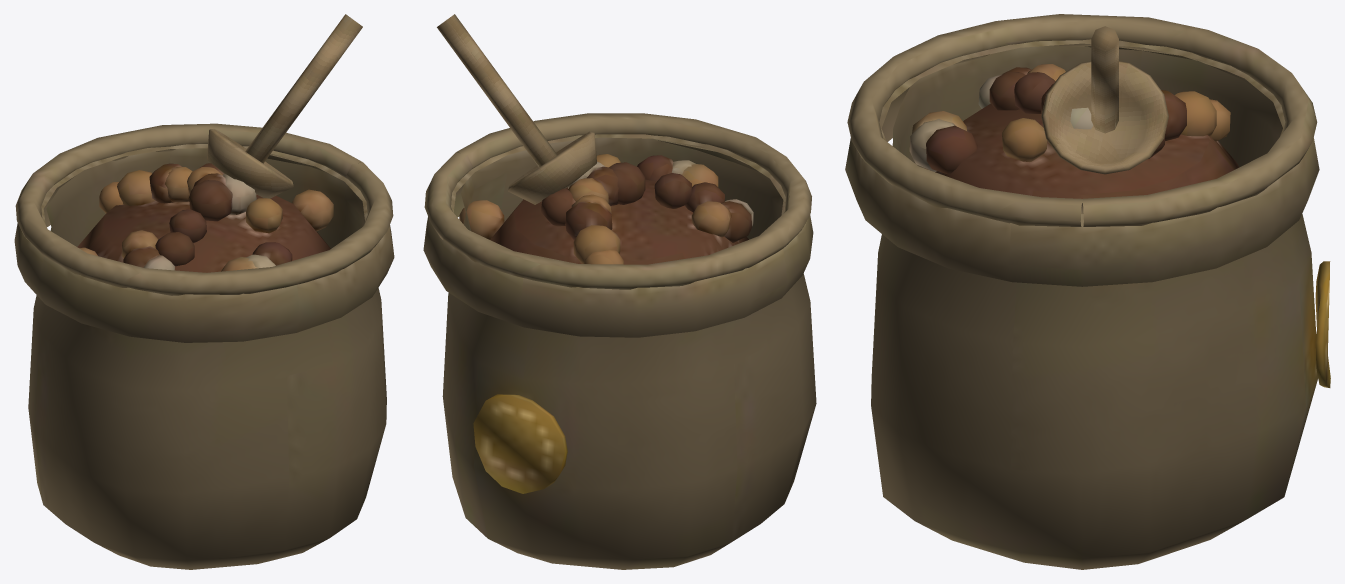
Rendered from pellet_sack_brown.glb.
3 renders of one model, left to right at view 1: azimuth 30°, elevation 25°; view 2: azimuth 150°, elevation 25°; view 3: azimuth 270°, elevation 25°, orthographic. The views are drawn at different scales.
Visible parts, largest first — view 1: prop_pellet_sack_brown_felt, prop_pellet_sack_brown_wood; view 2: prop_pellet_sack_brown_felt, prop_pellet_sack_brown_wood; view 3: prop_pellet_sack_brown_felt, prop_pellet_sack_brown_wood.
Part boxes in pixels (box(x1,y1,x2,y2)): prop_pellet_sack_brown_felt: box(14, 123, 394, 569); prop_pellet_sack_brown_wood: box(207, 14, 362, 198); prop_pellet_sack_brown_felt: box(423, 113, 816, 569); prop_pellet_sack_brown_wood: box(437, 14, 596, 204); prop_pellet_sack_brown_felt: box(845, 14, 1330, 569); prop_pellet_sack_brown_wood: box(1041, 26, 1168, 174).
Bounding box in the file's own units: 0.4168 × 0.5482 × 0.4259.
Materials: 2 (2 with a texture image).
